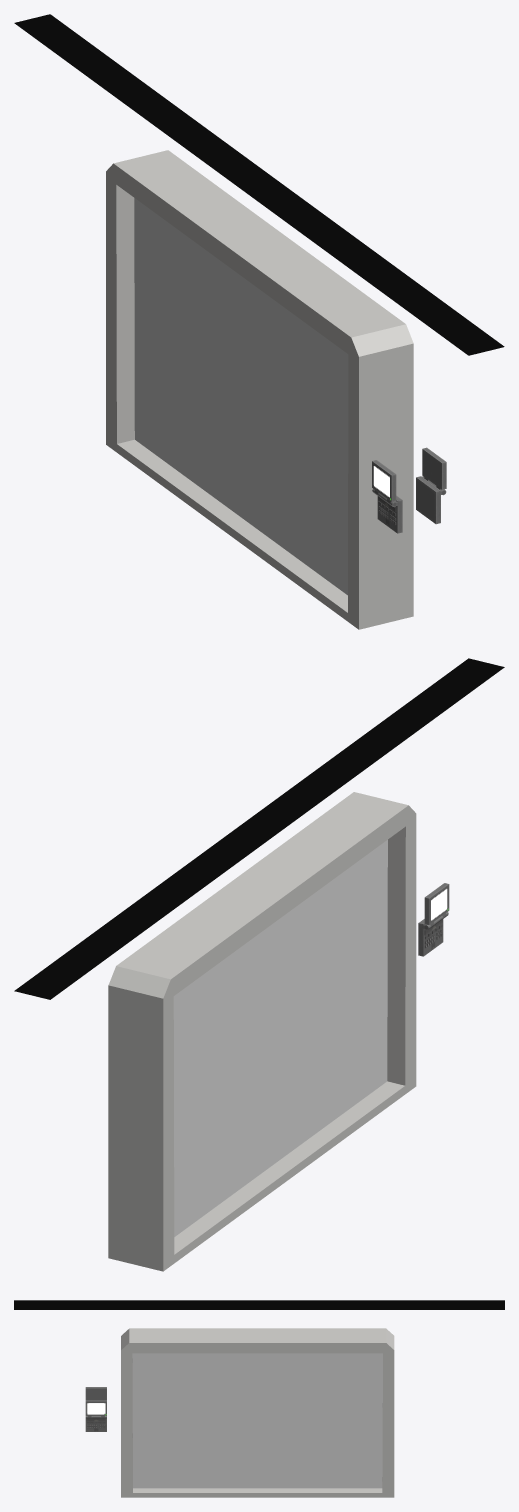
The model's file is Pfb_LabDoor.fbx.
3 views of the same model, one above another, from view 1: azimuth 30°, elevation 25°; view 2: azimuth 150°, elevation 25°; view 3: azimuth 270°, elevation 25° (orthographic). The views are drawn at different scales.
Parts seen in each view (by area): view 1: LabDoor, BlackTop, Mat_Computer_01_01; view 2: LabDoor, BlackTop, Mat_Computer_01_01; view 3: LabDoor, BlackTop, Mat_Computer_01_01.
Boxes of the visible parts, x1,y1,x2,y2 form: LabDoor: (106,150,413,629); BlackTop: (14,14,504,355); Mat_Computer_01_01: (372,447,446,533); LabDoor: (108,792,416,1271); BlackTop: (14,658,504,999); Mat_Computer_01_01: (418,883,449,956); LabDoor: (121,1328,394,1497); BlackTop: (14,1300,504,1309); Mat_Computer_01_01: (85,1387,106,1431).
Bounding box in the file's own units: 0.5022 × 3 × 7.19.
Materials: 3 (3 with a texture image).
